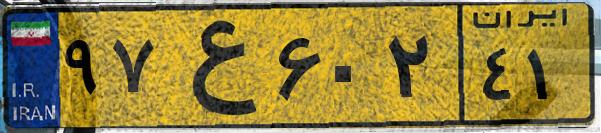0: (330, 28, 385, 110)
1: (525, 38, 570, 115)
2: (385, 28, 445, 110)
4: (475, 38, 525, 113)
6: (270, 28, 330, 110)
7: (110, 28, 158, 98)
9: (57, 26, 110, 100)
ع: (158, 12, 270, 120)
